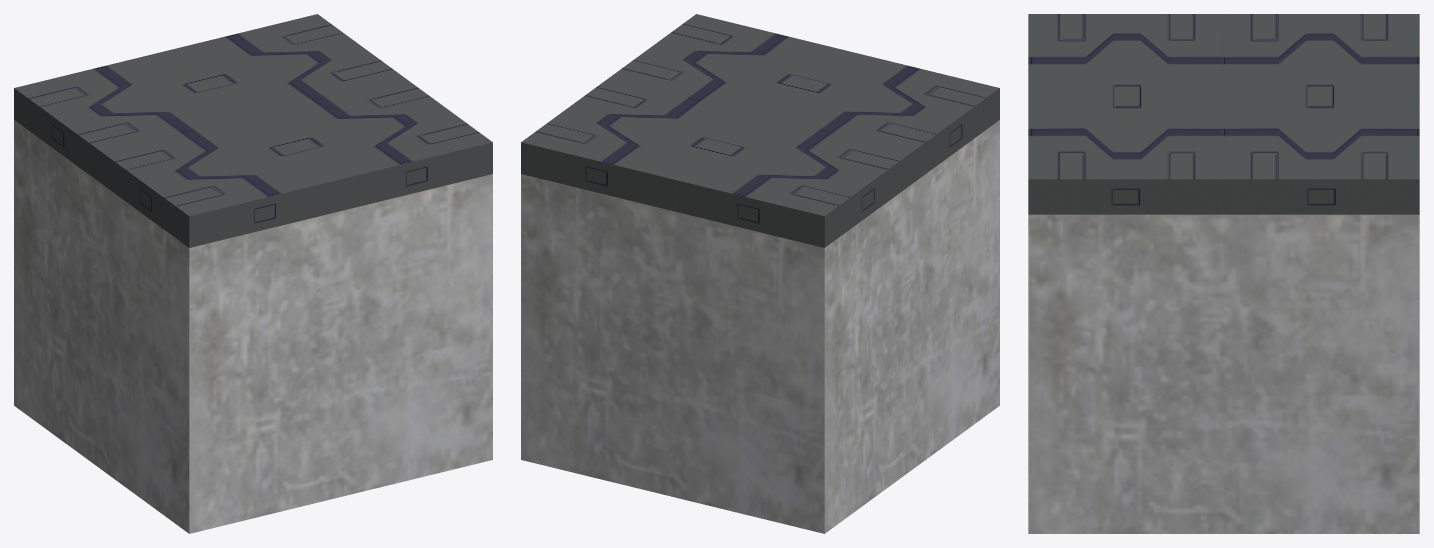
File: tiles_floor.glb
The picture shows the model from 3 angles, left to right: view 1: azimuth 30°, elevation 25°; view 2: azimuth 150°, elevation 25°; view 3: azimuth 270°, elevation 25°; orthographic projection. The views are drawn at different scales.
Visible parts, largest first — view 1: Floor_Base.001; view 2: Floor_Base.001; view 3: Floor_Base.001.
Boxes of the visible parts, <box> form: Floor_Base.001: <box>14,14,492,533</box>; Floor_Base.001: <box>521,14,999,533</box>; Floor_Base.001: <box>1028,14,1419,533</box>.
Size of the model in its own units: 2 by 2 by 2.
Materials: 2 (2 with a texture image).
